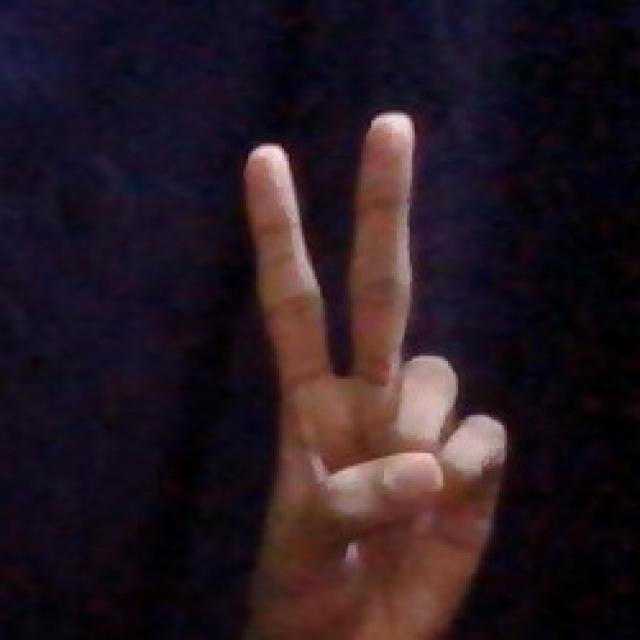Numeric-2: (240, 107, 507, 623)
